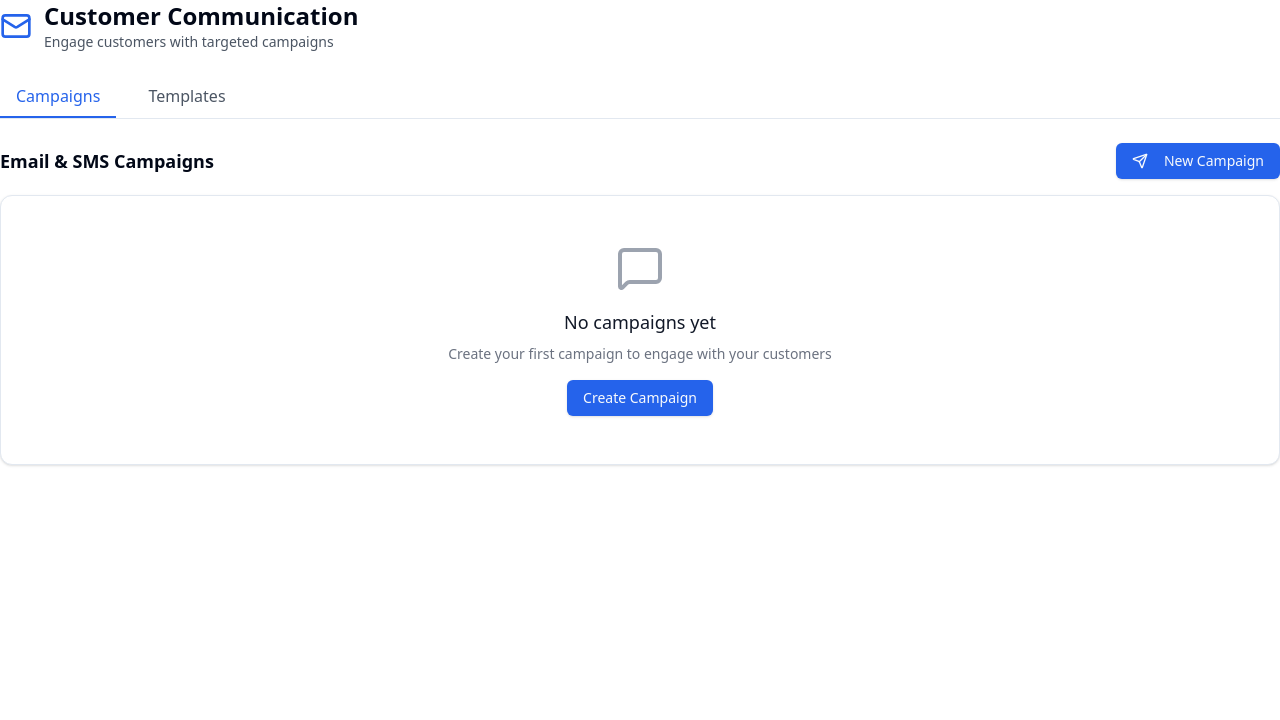
Test: CustomerCommunication › disables save template button when required fields are empty
Click the button with test id "templates-tab". click: (187, 97)
box: x1=132 y1=76 x2=242 y2=118
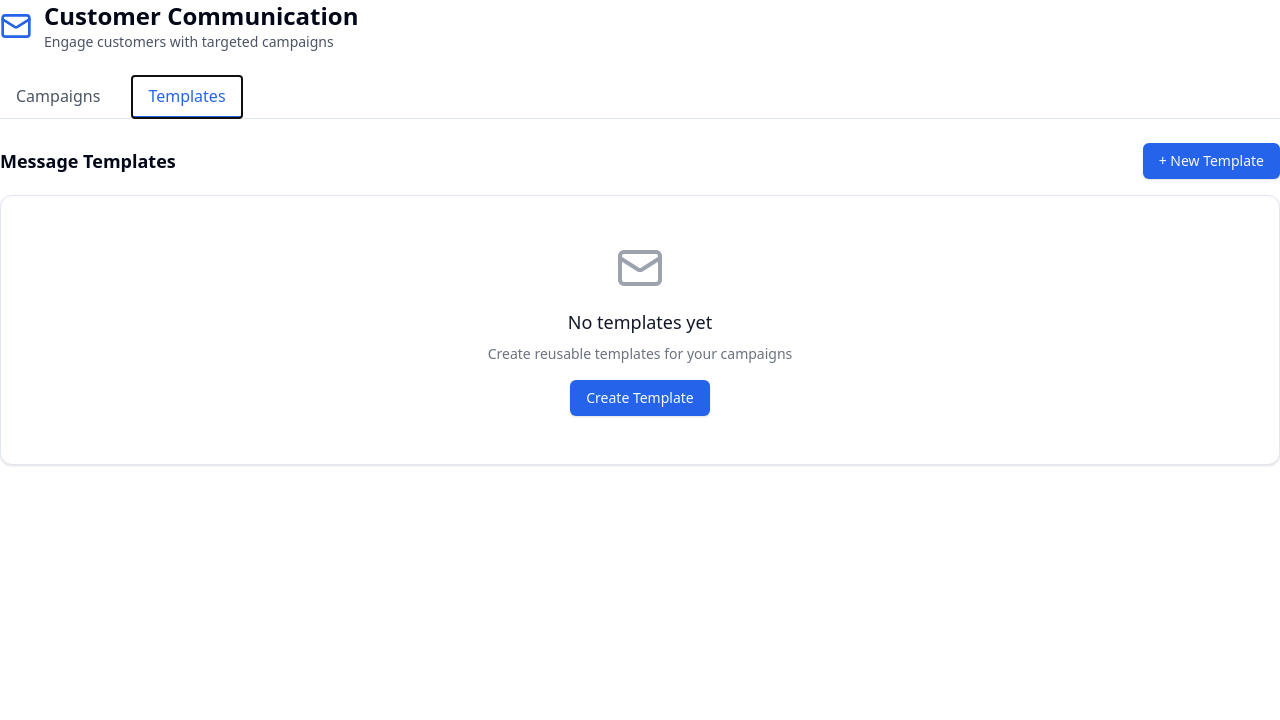
Click the button with test id "create-template-btn". click: (1211, 161)
box: x1=1143 y1=143 x2=1279 y2=179
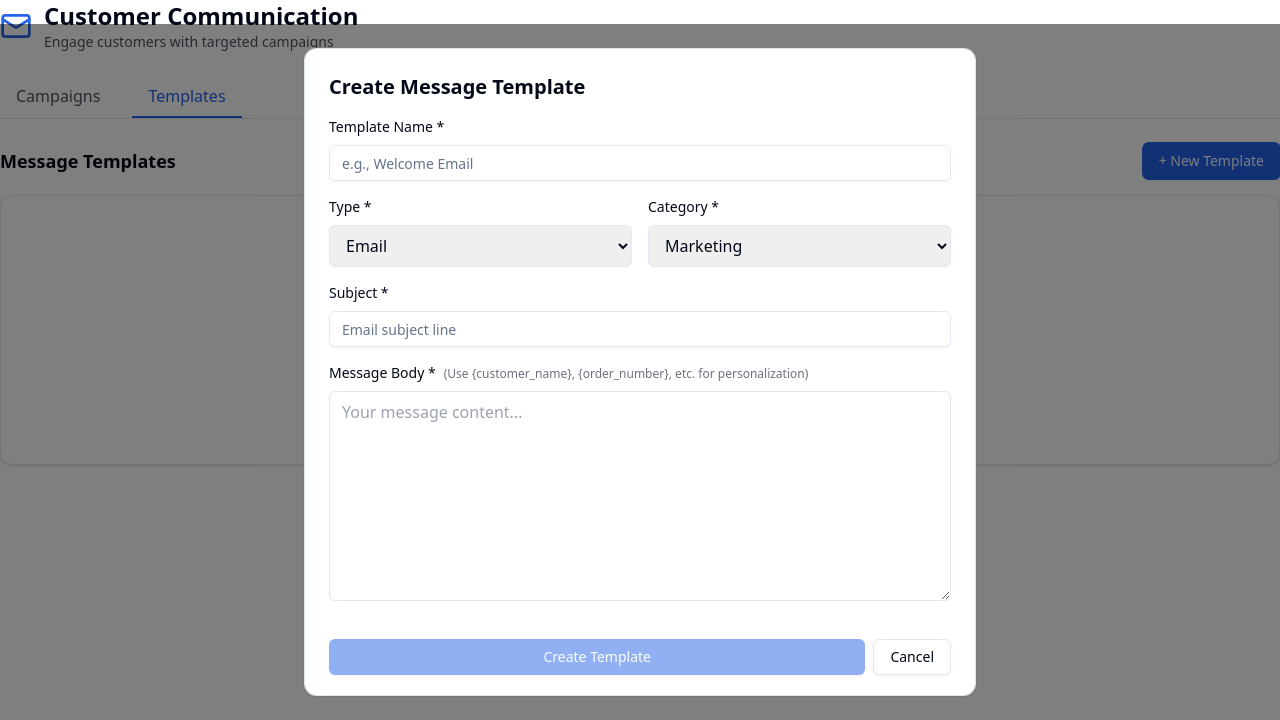
Expected: the element with test id "create-template-dialog" is shown
Expected: the button with test id "save-template" is disabled, x1=329 y1=639 x2=865 y2=675
Type "Test" into the field with test id "template-name". click: (640, 163)
box: x1=329 y1=145 x2=951 y2=181
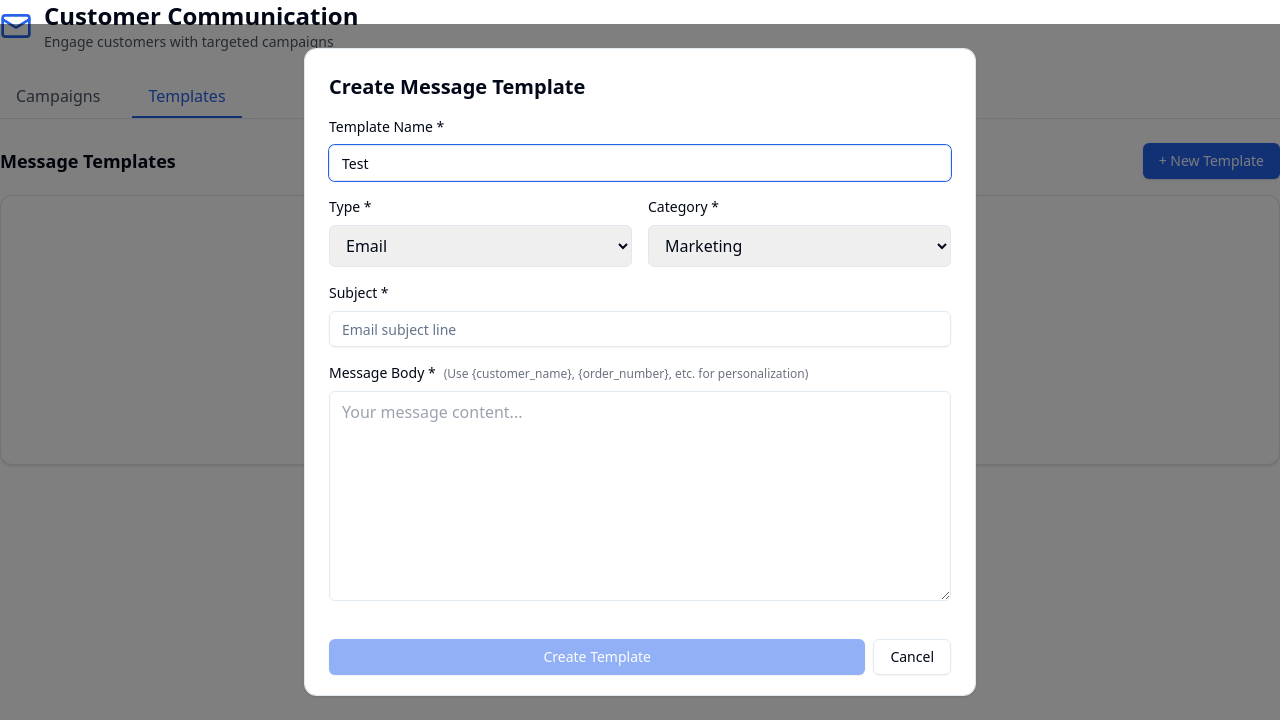
Expected: the button with test id "save-template" is disabled, x1=329 y1=639 x2=865 y2=675
Type "Subject" into the field with test id "template-subject". click: (640, 329)
box: x1=329 y1=311 x2=951 y2=347
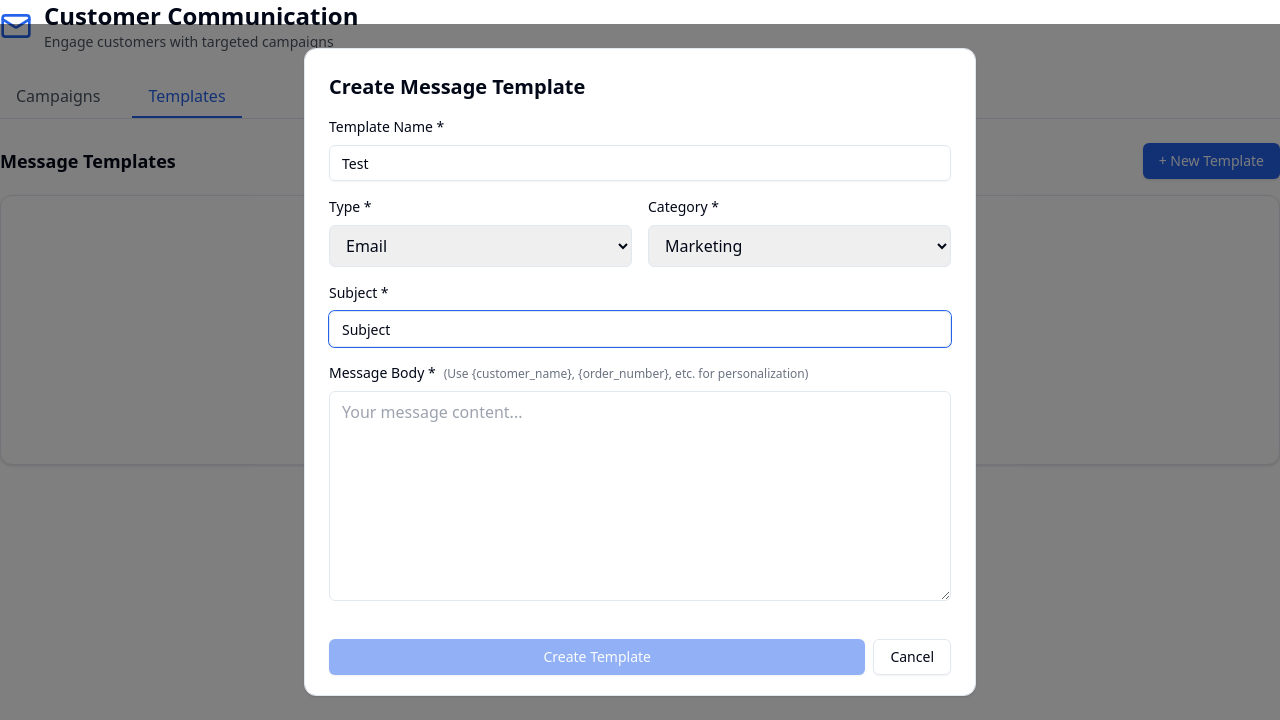
Expected: the button with test id "save-template" is disabled, x1=329 y1=639 x2=865 y2=675
Type "Body" into the text box with test id "template-body". click: (640, 496)
box: x1=329 y1=391 x2=951 y2=601
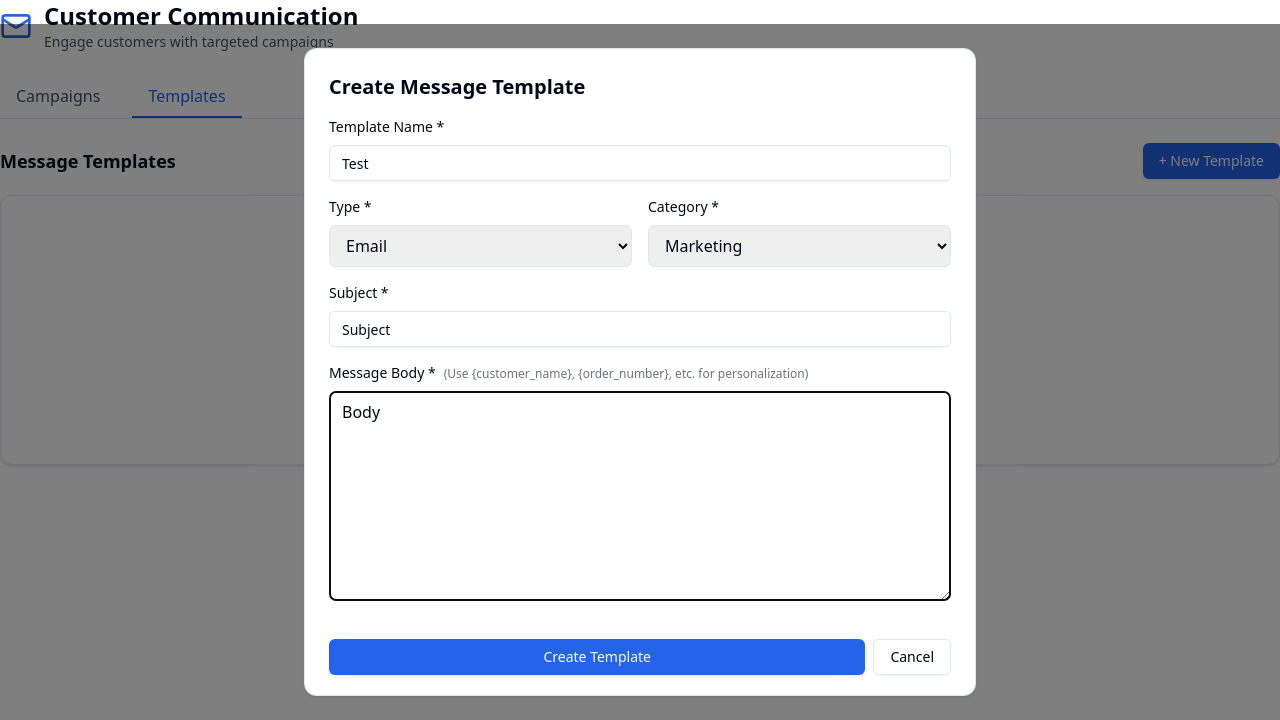
Expected: the button with test id "save-template" is enabled, x1=329 y1=639 x2=865 y2=675
